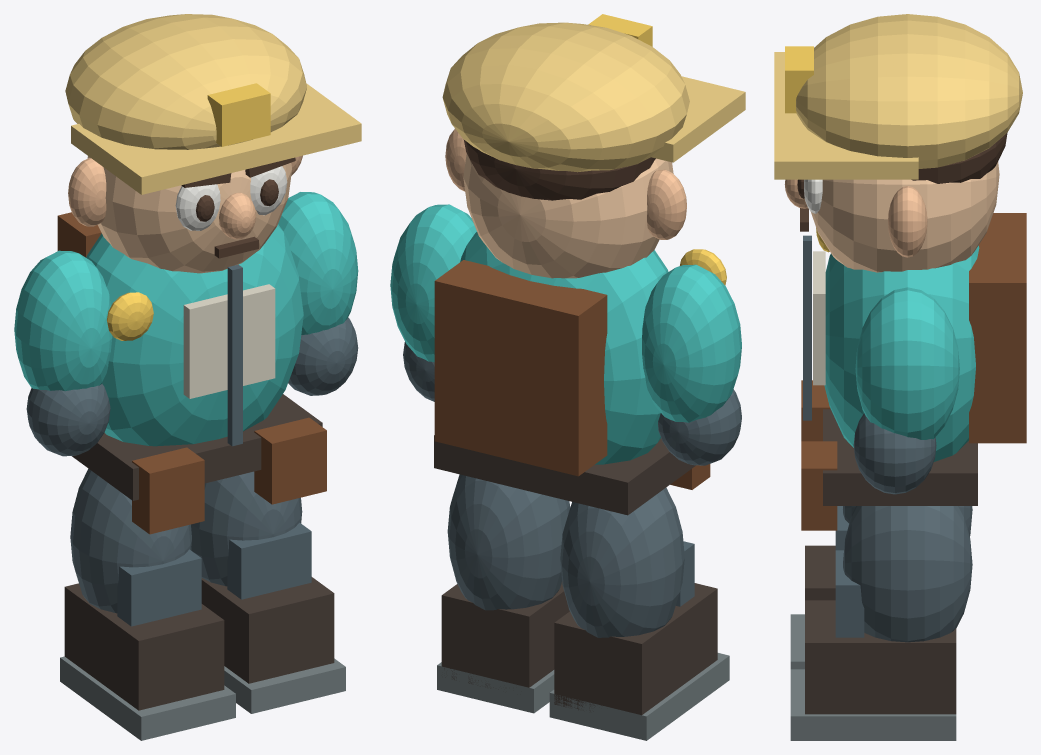
Rendered from bp_residentteal.glb.
The picture shows the model from 3 angles, left to right: view 1: azimuth 30°, elevation 25°; view 2: azimuth 150°, elevation 25°; view 3: azimuth 270°, elevation 25°; orthographic projection. The views are drawn at different scales.
Visible parts, largest first — view 1: Helmet.001, Torso.001, Boot_L.001, Sleeve_L.001, HelmetBrim.001, Boot_R.001, HeadMesh.001, Trouser_L.001, Sleeve_R.001, Shirt.001, Trouser_R.001, Belt.001 (+17 smaller); view 2: Backpack.001, Helmet.001, Trouser_L.001, HeadMesh.001, Trouser_R.001, Boot_L.001, Sleeve_L.001, Torso.001, Boot_R.001, Belt.001, Sleeve_R.001, Sole_L.001 (+11 smaller); view 3: Helmet.001, Trouser_R.001, Boot_R.001, Sleeve_R.001, HeadMesh.001, Torso.001, Backpack.001, Belt.001, HelmetBrim.001, Sole_R.001, Glove_R.001, BeltPouch.003 (+11 smaller).
Boxes of the visible parts, box(x1,y1,x2,y2) form: Helmet.001: box(65, 14, 306, 149); Torso.001: box(86, 224, 303, 446); Boot_L.001: box(64, 583, 224, 710); Sleeve_L.001: box(14, 250, 112, 391); HelmetBrim.001: box(71, 83, 361, 194); Boot_R.001: box(201, 577, 334, 683); HeadMesh.001: box(87, 156, 292, 273); Trouser_L.001: box(70, 468, 191, 613); Sleeve_R.001: box(278, 192, 358, 334); Shirt.001: box(183, 284, 275, 398); Trouser_R.001: box(191, 471, 302, 586); Belt.001: box(72, 394, 322, 500); Backpack.001: box(434, 260, 607, 476); Helmet.001: box(442, 22, 689, 172); Trouser_L.001: box(560, 487, 684, 637); HeadMesh.001: box(463, 153, 673, 278); Trouser_R.001: box(447, 474, 570, 610); Boot_L.001: box(554, 583, 717, 715); Sleeve_L.001: box(642, 264, 741, 422); Torso.001: box(460, 232, 668, 464); Boot_R.001: box(441, 581, 569, 689); Belt.001: box(434, 435, 695, 515); Sleeve_R.001: box(390, 204, 476, 362); Sole_L.001: box(549, 653, 729, 740); Helmet.001: box(796, 14, 1022, 168); Trouser_R.001: box(843, 506, 972, 642); Boot_R.001: box(805, 600, 956, 714); Sleeve_R.001: box(855, 287, 959, 439); HeadMesh.001: box(810, 161, 999, 272); Torso.001: box(824, 245, 979, 461); Backpack.001: box(969, 213, 1026, 443); Belt.001: box(823, 409, 977, 505); HelmetBrim.001: box(774, 52, 918, 179); Sole_R.001: box(790, 669, 956, 740); Glove_R.001: box(853, 413, 936, 494); BeltPouch.003: box(801, 441, 837, 530).
Bounding box in the file's own units: 1.08 × 2.01 × 0.7.
